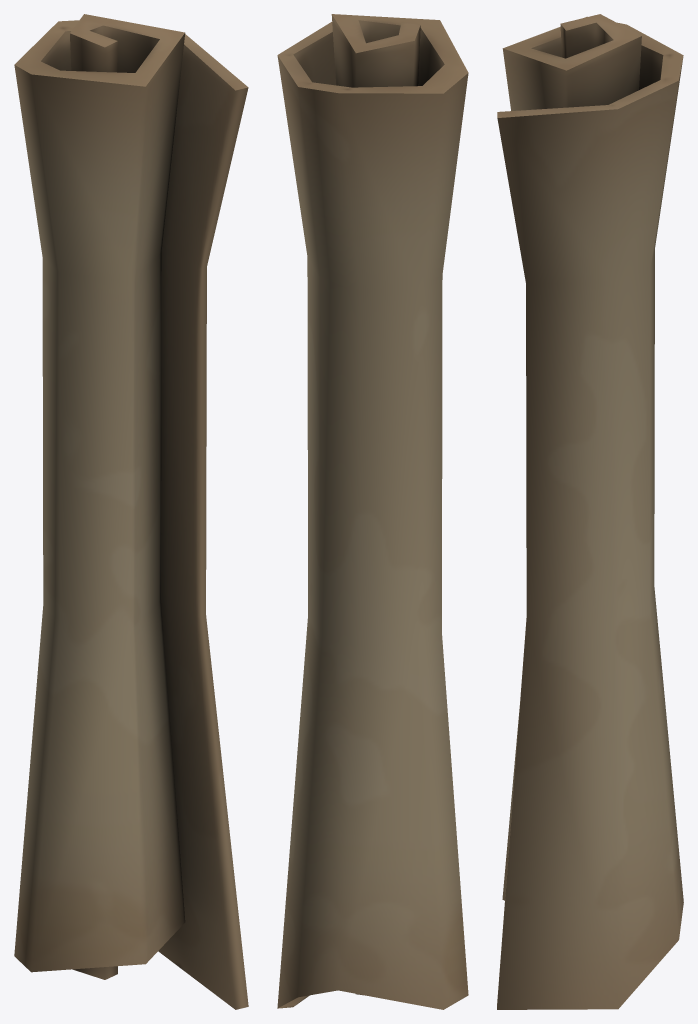
The model's file is Scroll_A.fbx.
3 views of the same model, side by side, from view 1: azimuth 30°, elevation 25°; view 2: azimuth 150°, elevation 25°; view 3: azimuth 270°, elevation 25° (orthographic). The views are drawn at different scales.
Visible parts, largest first — view 1: U_Scroll_A; view 2: U_Scroll_A; view 3: U_Scroll_A.
Boxes of the visible parts, box(x1,y1,x2,y2) form: U_Scroll_A: box(14, 14, 248, 1009); U_Scroll_A: box(277, 14, 468, 1009); U_Scroll_A: box(497, 14, 683, 1009).
Bounding box in the file's own units: 14.37 × 77.41 × 13.99.
Materials: 1 (1 with a texture image).
